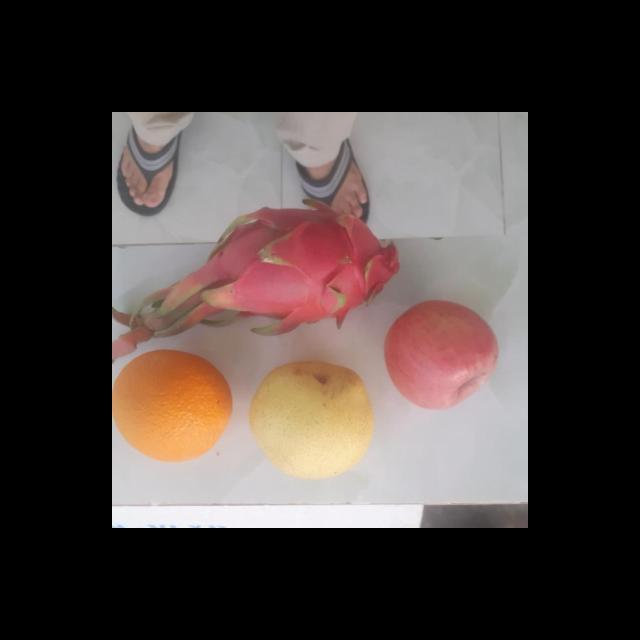apple: (385, 300, 503, 410)
orange: (112, 350, 236, 466)
pear: (246, 364, 381, 479)
pitaya: (210, 210, 410, 332)
